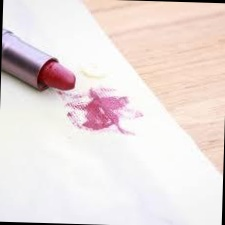lipstick: (56, 87, 146, 140)
